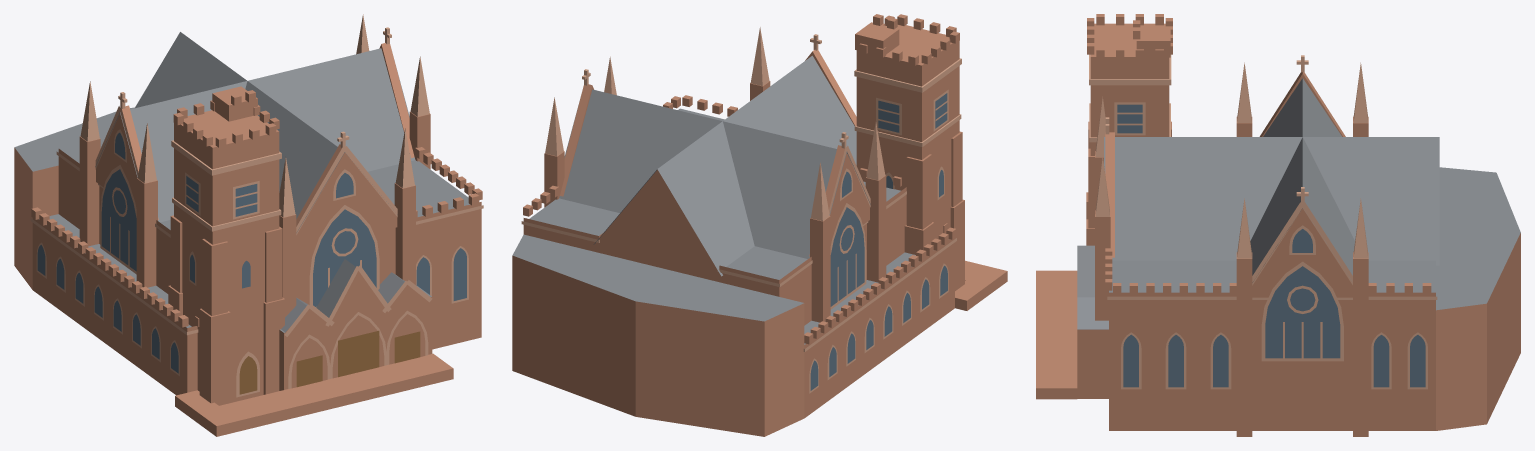
File: slc-first-presbyterian-church.glb
3 views of the same model, side by side, from view 1: azimuth 30°, elevation 25°; view 2: azimuth 150°, elevation 25°; view 3: azimuth 270°, elevation 25° (orthographic). The views are drawn at different scales.
Parts seen in each view (by area): view 1: First Presbyterian Church; view 2: First Presbyterian Church; view 3: First Presbyterian Church.
Boxes of the visible parts, x1=… form: First Presbyterian Church: x1=14, y1=14, x2=483, y2=436; First Presbyterian Church: x1=512, y1=14, x2=1007, y2=436; First Presbyterian Church: x1=1036, y1=14, x2=1520, y2=436.
Size of the model in its own units: 30.35 by 26.75 by 40.
